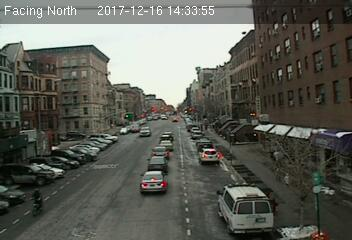bicycle: (29, 186, 47, 218)
car: (140, 171, 166, 191), (147, 155, 167, 171), (201, 148, 220, 164), (152, 146, 169, 157), (139, 125, 151, 136)
police: (216, 182, 275, 235)
